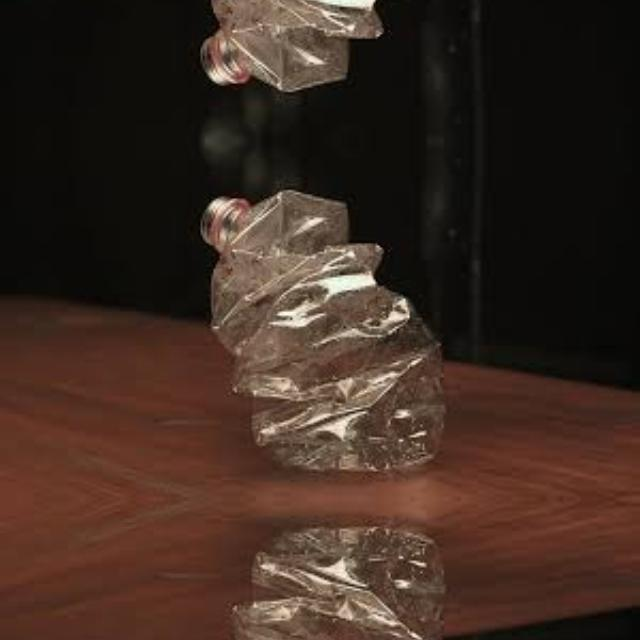Plastic: (184, 174, 456, 486), (184, 511, 455, 640), (184, 0, 455, 105)
